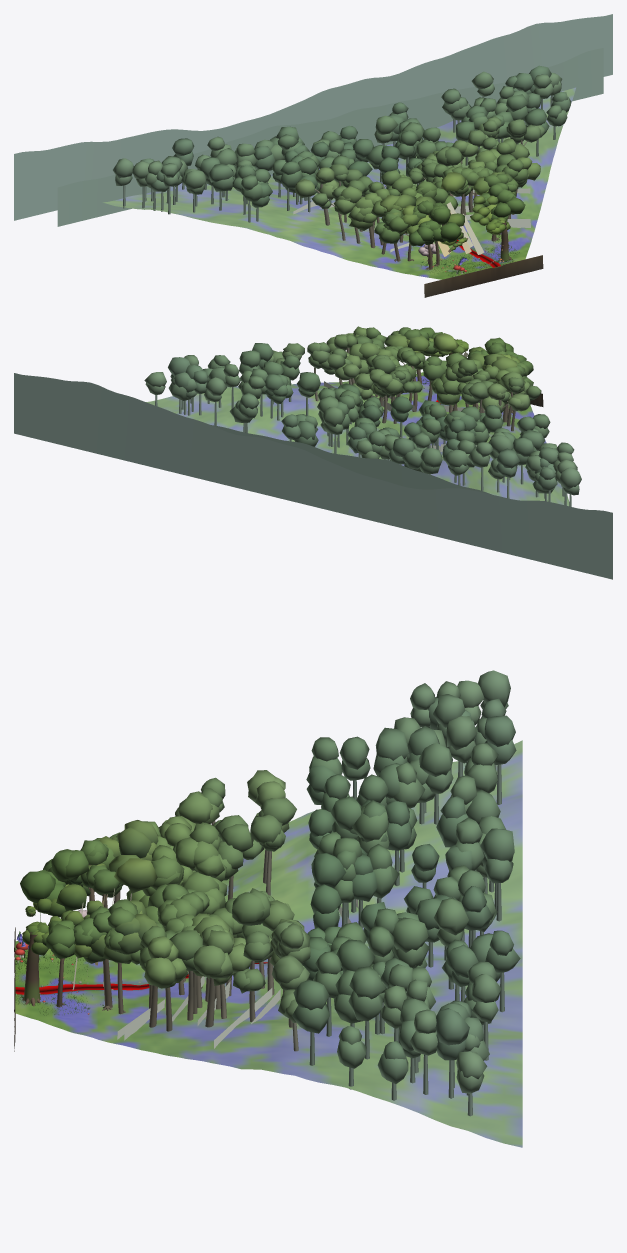
Rendered from backdrop_0.glb.
3 renders of one model, top to bottom at view 1: azimuth 30°, elevation 25°; view 2: azimuth 150°, elevation 25°; view 3: azimuth 270°, elevation 25°, orthographic. The views are drawn at different scales.
Visible parts, largest first — view 1: far_hills, far_forest, mid_ground, mid_leaves, mid_canopy, fg_bank, mid_trees, mid_beams, mid_mist; view 2: far_hills, far_forest, mid_leaves, mid_ground, mid_canopy, mid_trees; view 3: far_forest, mid_ground, mid_leaves, mid_canopy, mid_trees, mid_mist, fg_oak.
Part boxes in pixels (left/top/right/bottom): far_hills: left=14, top=14, right=612, bottom=226; far_forest: left=113, top=65, right=571, bottom=222; mid_ground: left=103, top=87, right=575, bottom=279; mid_leaves: left=295, top=116, right=544, bottom=246; mid_canopy: left=380, top=171, right=516, bottom=245; fg_bank: left=424, top=255, right=543, bottom=297; mid_trees: left=315, top=140, right=527, bottom=269; mid_beams: left=433, top=202, right=484, bottom=256; mid_mist: left=293, top=188, right=530, bottom=252; far_hills: left=14, top=373, right=612, bottom=579; far_forest: left=144, top=343, right=581, bottom=506; mid_leaves: left=270, top=326, right=541, bottom=413; mid_ground: left=146, top=372, right=569, bottom=506; mid_canopy: left=384, top=330, right=519, bottom=370; mid_trees: left=314, top=347, right=516, bottom=432; far_forest: left=292, top=670, right=520, bottom=1116; mid_ground: left=15, top=740, right=522, bottom=1147; mid_leaves: left=20, top=770, right=310, bottom=1022; mid_canopy: left=32, top=820, right=158, bottom=963; mid_trees: left=56, top=820, right=298, bottom=1051; mid_mist: left=117, top=899, right=358, bottom=1048; fg_oak: left=20, top=932, right=40, bottom=1006.
Bounding box in the file's own units: 404 × 55.48 × 199.
